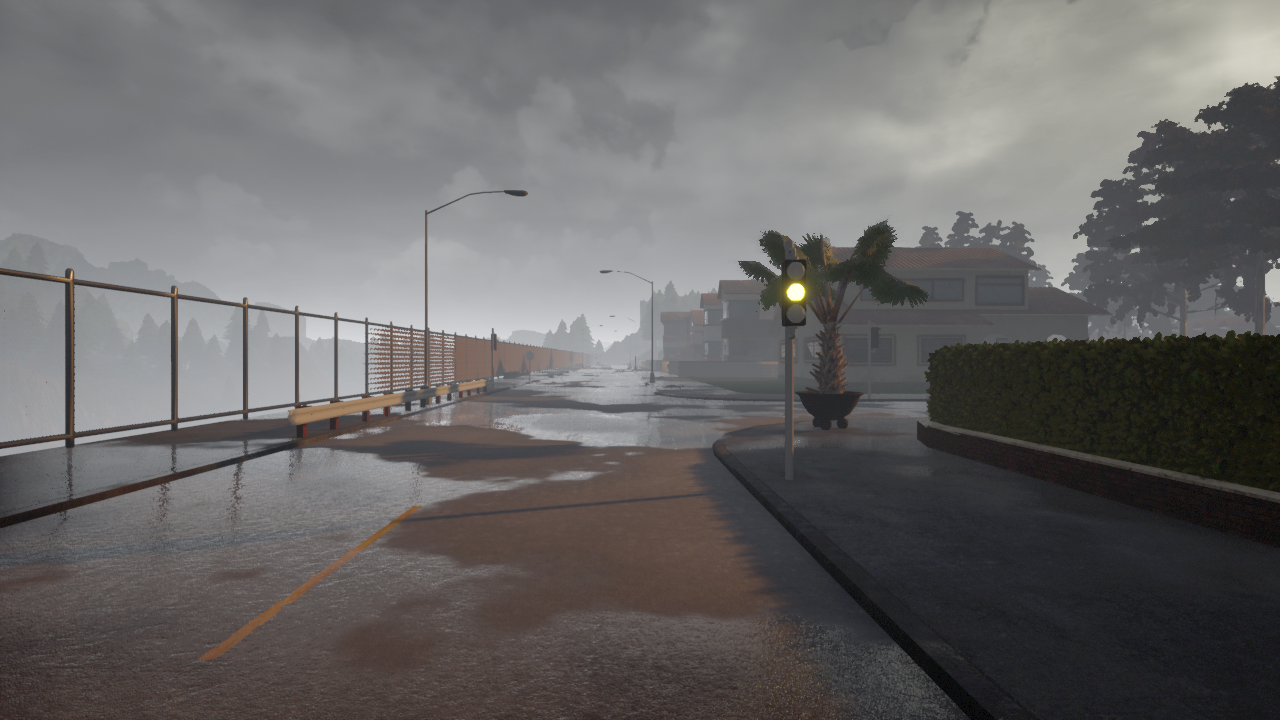yellow: (782, 256, 808, 329)
